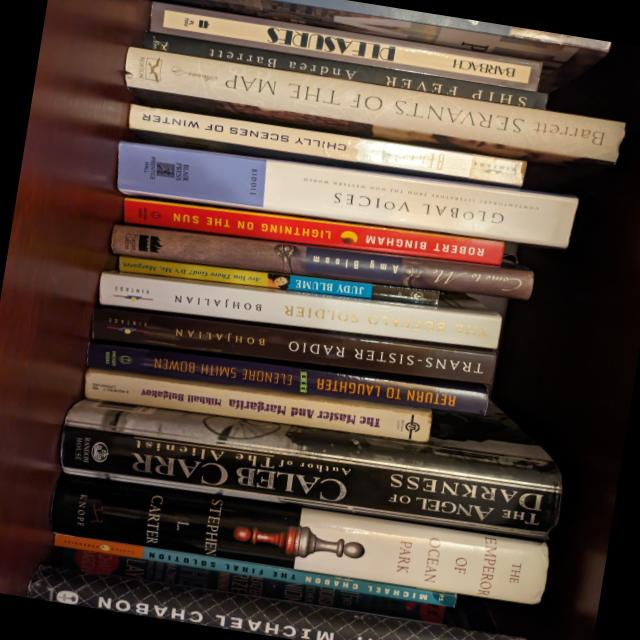book: (57, 399, 563, 539), (119, 45, 625, 178), (111, 140, 578, 250), (157, 0, 610, 100), (25, 560, 524, 640), (125, 104, 526, 195), (147, 0, 542, 92), (109, 223, 534, 301), (143, 30, 547, 112), (96, 269, 502, 350), (89, 305, 496, 385), (60, 546, 444, 628), (85, 340, 490, 416), (52, 532, 456, 608), (81, 365, 432, 443), (121, 196, 503, 267), (291, 507, 551, 606), (116, 255, 439, 308)
